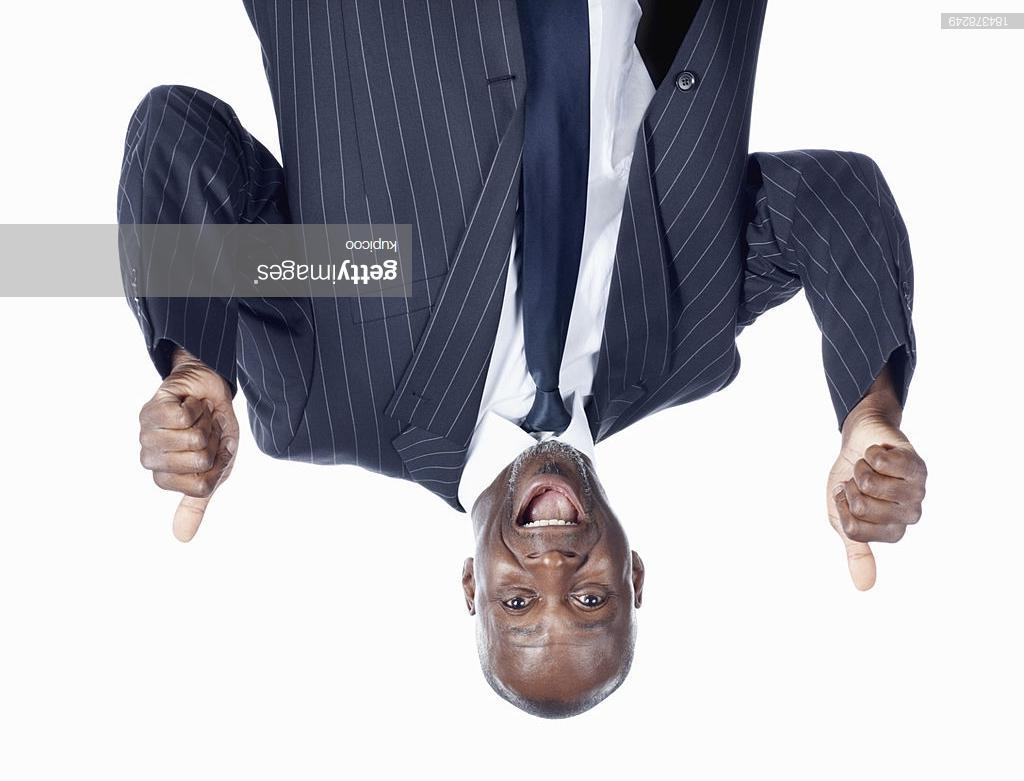thumbsdown: (137, 392, 239, 544), (832, 441, 928, 593)
